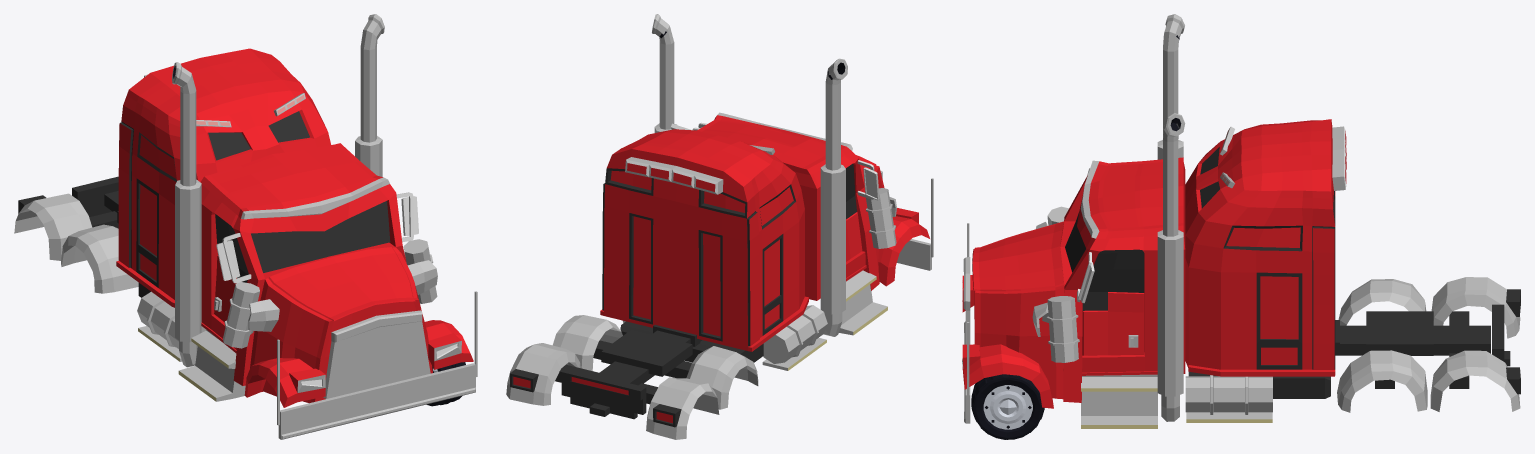
Rendered from Enemy.fbx.
The picture shows the model from 3 angles, left to right: view 1: azimuth 30°, elevation 25°; view 2: azimuth 150°, elevation 25°; view 3: azimuth 270°, elevation 25°; orthographic projection. The views are drawn at different scales.
Parts seen in each view (by area): view 1: Enemy_Cabin_Base, Enemy_Cabin, Enemy_Pipes, Enemy_Grill, Enemy_Hood, Enemy_FrontBumper, Enemy_Windscreen, Enemy_WheelCoverFront, Enemy_GasCansFront, Enemy_WheelCoverBack1, Enemy_WheelCoverBack2, Enemy_Stairs (+4 smaller); view 2: Enemy_Cabin_Base, Enemy_Base, Enemy_Cabin, Enemy_Pipes, Enemy_WheelCoverBack2, Enemy_WheelCoverBack1, Enemy_GasCans, Enemy_Stairs, Enemy_WheelCoverFront, Enemy_GasCansFront, Enemy_Door, Enemy_FrontBumper (+1 smaller); view 3: Enemy_Cabin_Base, Enemy_Cabin, Enemy_Pipes, Enemy_Base, Enemy_Door, Enemy_WheelCoverBack2, Enemy_WheelCoverBack1, Enemy_Hood, Enemy_Stairs, Enemy_GasCans, Enemy_Tire, Enemy_WheelCoverFront (+4 smaller).
Boxes of the visible parts, bbox=[...] form: Enemy_Cabin_Base: bbox=[116, 48, 330, 307]; Enemy_Cabin: bbox=[200, 143, 432, 403]; Enemy_Pipes: bbox=[172, 14, 384, 367]; Enemy_Grill: bbox=[323, 310, 430, 398]; Enemy_Hood: bbox=[268, 247, 415, 321]; Enemy_FrontBumper: bbox=[277, 291, 477, 439]; Enemy_Windscreen: bbox=[251, 201, 390, 272]; Enemy_WheelCoverFront: bbox=[244, 320, 473, 407]; Enemy_GasCansFront: bbox=[223, 239, 437, 348]; Enemy_WheelCoverBack1: bbox=[61, 224, 138, 293]; Enemy_WheelCoverBack2: bbox=[14, 193, 92, 260]; Enemy_Stairs: bbox=[178, 330, 245, 401]; Enemy_Cabin_Base: bbox=[600, 123, 808, 351]; Enemy_Base: bbox=[555, 321, 763, 419]; Enemy_Cabin: bbox=[697, 112, 884, 300]; Enemy_Pipes: bbox=[652, 14, 847, 336]; Enemy_WheelCoverBack2: bbox=[506, 343, 719, 439]; Enemy_WheelCoverBack1: bbox=[552, 315, 758, 409]; Enemy_GasCans: bbox=[620, 305, 827, 370]; Enemy_Stairs: bbox=[820, 270, 887, 335]; Enemy_WheelCoverFront: bbox=[878, 208, 929, 286]; Enemy_GasCansFront: bbox=[866, 188, 896, 248]; Enemy_Door: bbox=[846, 163, 862, 261]; Enemy_FrontBumper: bbox=[897, 178, 933, 270]; Enemy_Cabin_Base: bbox=[1185, 119, 1346, 376]; Enemy_Cabin: bbox=[974, 157, 1185, 402]; Enemy_Pipes: bbox=[1157, 14, 1185, 421]; Enemy_Base: bbox=[1188, 304, 1510, 398]; Enemy_Door: bbox=[1082, 249, 1144, 355]; Enemy_WheelCoverBack2: bbox=[1430, 277, 1520, 411]; Enemy_WheelCoverBack1: bbox=[1337, 279, 1427, 412]; Enemy_Hood: bbox=[972, 222, 1063, 291]; Enemy_Stairs: bbox=[1081, 374, 1157, 428]; Enemy_GasCans: bbox=[1185, 375, 1272, 422]; Enemy_Tire: bbox=[971, 374, 1044, 439]; Enemy_WheelCoverFront: bbox=[962, 275, 1053, 408].
Size of the model in its own units: 218 by 485 by 318.
